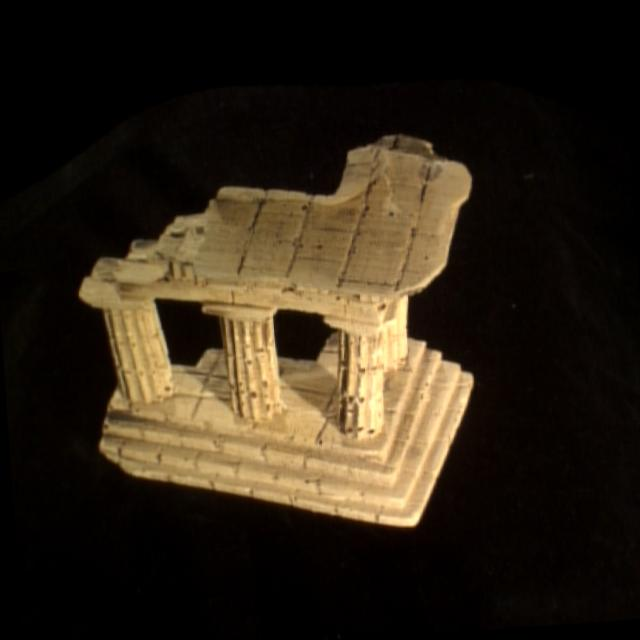Instance-Segmentation: (79, 136, 470, 526)
